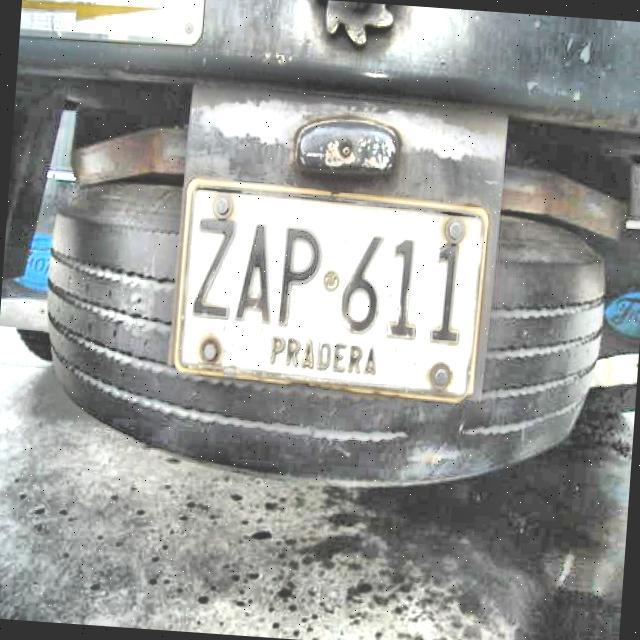1: (425, 232, 469, 349), (381, 233, 421, 344)
6: (335, 228, 388, 338)
A: (232, 218, 272, 329)
P: (275, 223, 326, 333)
Z: (186, 213, 241, 325)
